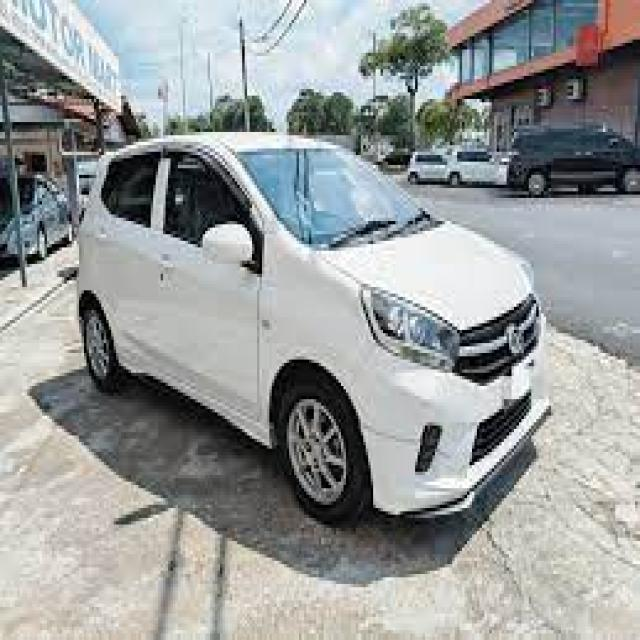PeroduaAxia: (71, 125, 554, 528)
